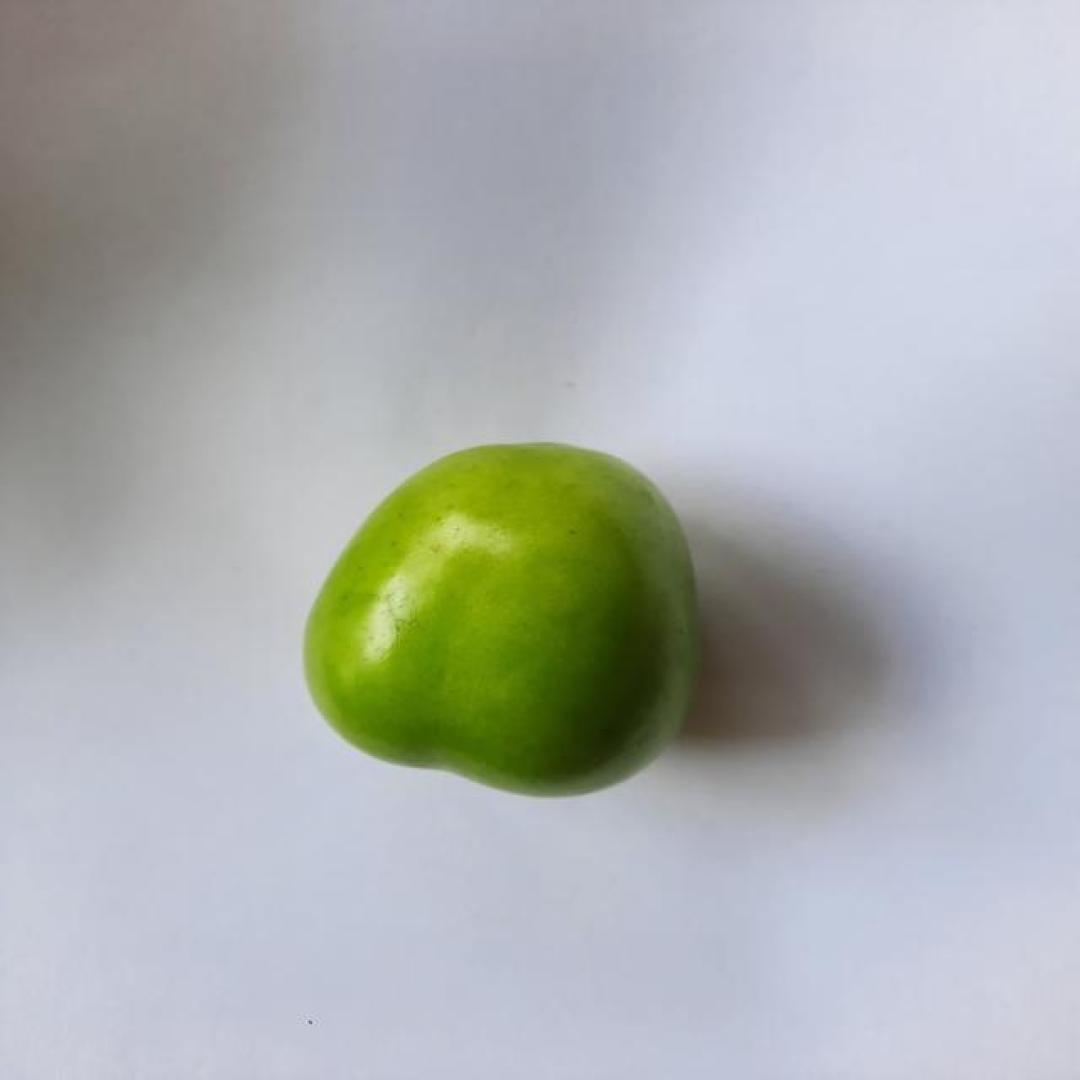mentah: (298, 440, 704, 805)
